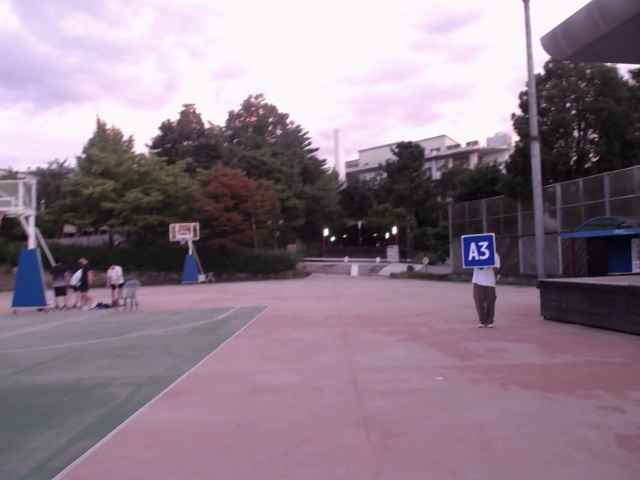delivery_a3: (461, 234, 497, 268)
